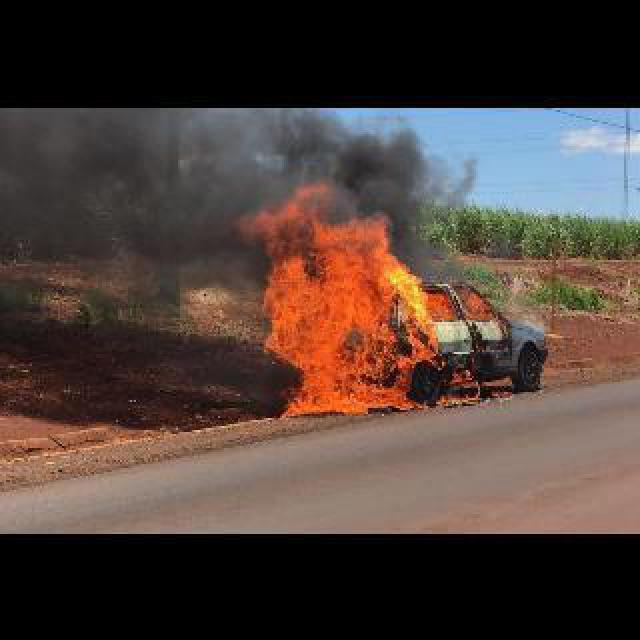Fire: (240, 180, 512, 416)
Smoke: (180, 106, 414, 218), (398, 110, 492, 272)
